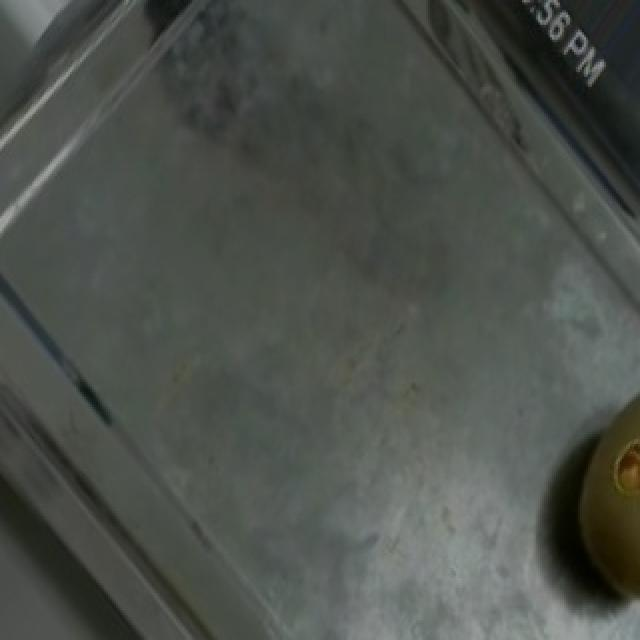Fruit: (518, 360, 640, 638)
